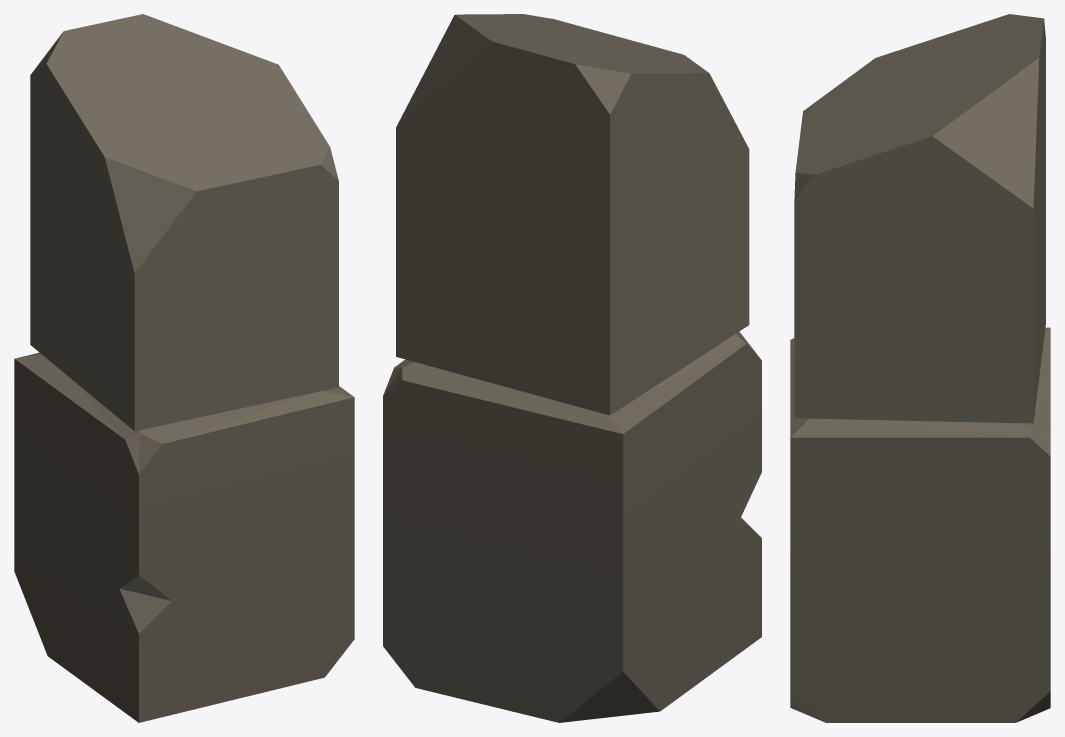
3 views of the same model, side by side, from view 1: azimuth 30°, elevation 25°; view 2: azimuth 150°, elevation 25°; view 3: azimuth 270°, elevation 25° (orthographic). The views are drawn at different scales.
Visible parts, largest first — view 1: mff_ruins_broken_column; view 2: mff_ruins_broken_column; view 3: mff_ruins_broken_column.
Part boxes in pixels (left/top/right/bottom): mff_ruins_broken_column: left=14, top=14, right=354, bottom=722; mff_ruins_broken_column: left=383, top=14, right=761, bottom=722; mff_ruins_broken_column: left=790, top=14, right=1050, bottom=722.
Bounding box in the file's own units: 0.7625 × 2 × 0.7625.
1 material, 1 textured.
